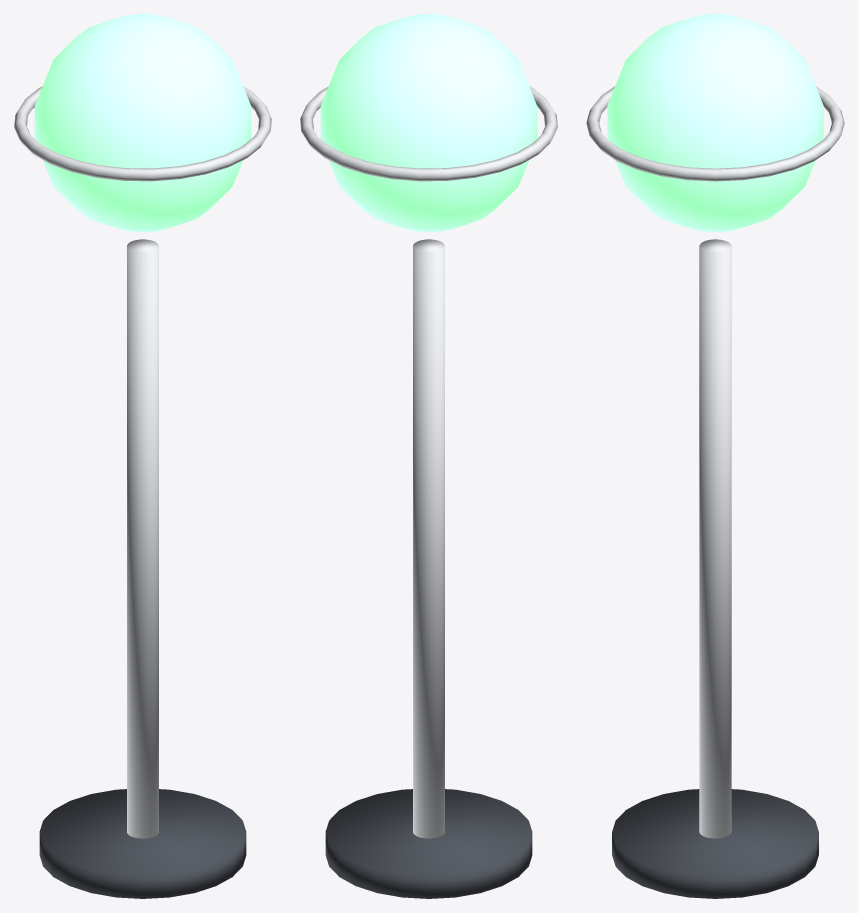
Rendered from floor_lamp_orb.glb.
3 renders of one model, left to right at view 1: azimuth 30°, elevation 25°; view 2: azimuth 150°, elevation 25°; view 3: azimuth 270°, elevation 25°, orthographic.
Parts seen in each view (by area): view 1: GD_floor_lamp_orb__m2, GD_floor_lamp_orb__m1, GD_floor_lamp_orb__m0; view 2: GD_floor_lamp_orb__m2, GD_floor_lamp_orb__m1, GD_floor_lamp_orb__m0; view 3: GD_floor_lamp_orb__m2, GD_floor_lamp_orb__m1, GD_floor_lamp_orb__m0.
Part boxes in pixels (bbox=[...]): GD_floor_lamp_orb__m2: bbox=[34, 14, 251, 232]; GD_floor_lamp_orb__m1: bbox=[14, 86, 271, 838]; GD_floor_lamp_orb__m0: bbox=[39, 789, 246, 898]; GD_floor_lamp_orb__m2: bbox=[320, 14, 537, 232]; GD_floor_lamp_orb__m1: bbox=[300, 86, 557, 838]; GD_floor_lamp_orb__m0: bbox=[325, 789, 532, 898]; GD_floor_lamp_orb__m2: bbox=[607, 14, 823, 232]; GD_floor_lamp_orb__m1: bbox=[586, 86, 844, 838]; GD_floor_lamp_orb__m0: bbox=[612, 789, 818, 898].
Size of the model in its own units: 0.4 by 1.42 by 0.4.
